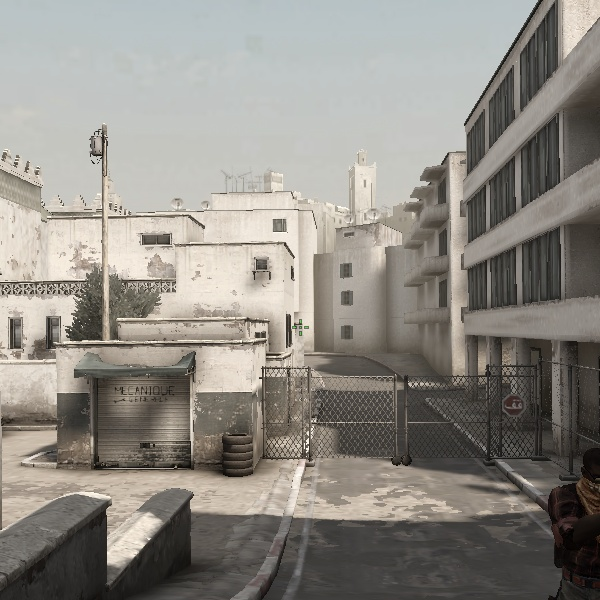t_body: (535, 440, 600, 600)
t_head: (573, 437, 600, 484)
